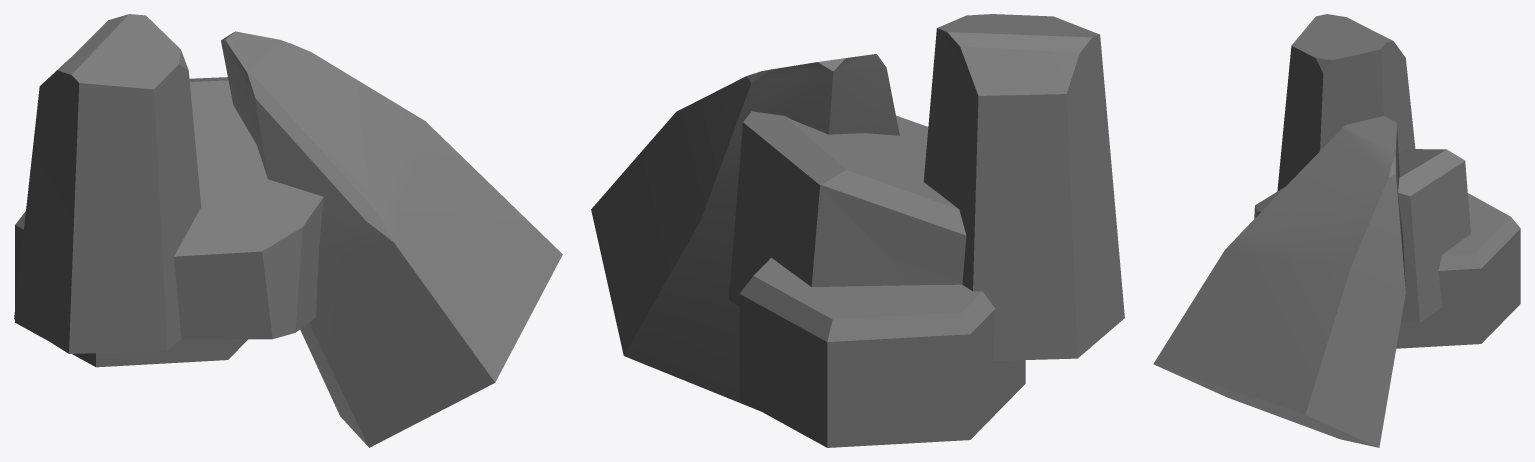
File: rock_formation6.fbx
The picture shows the model from 3 angles, left to right: view 1: azimuth 30°, elevation 25°; view 2: azimuth 150°, elevation 25°; view 3: azimuth 270°, elevation 25°; orthographic projection. The views are drawn at different scales.
Visible parts, largest first — view 1: rock; view 2: rock; view 3: rock.
Part boxes in pixels (x1=…): rock: x1=14, y1=14, x2=562, y2=447; rock: x1=591, y1=14, x2=1124, y2=447; rock: x1=1153, y1=14, x2=1520, y2=447.
Size of the model in its own units: 1693 by 1377 by 1398.
